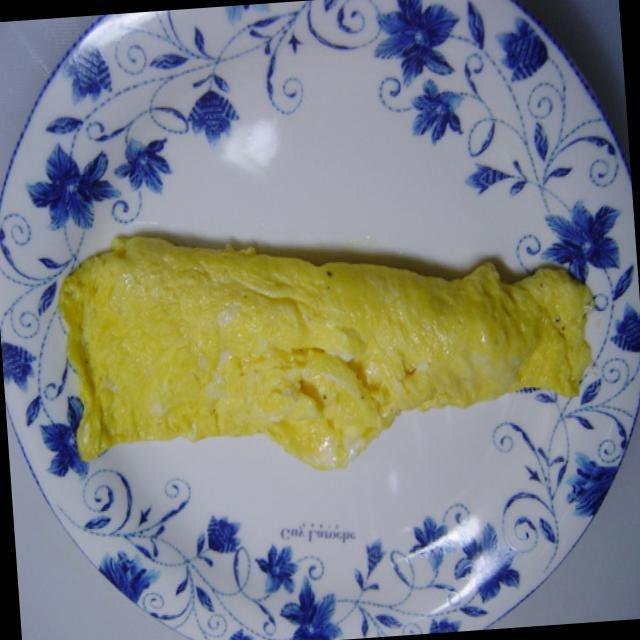Omelet: (51, 188, 607, 491)
